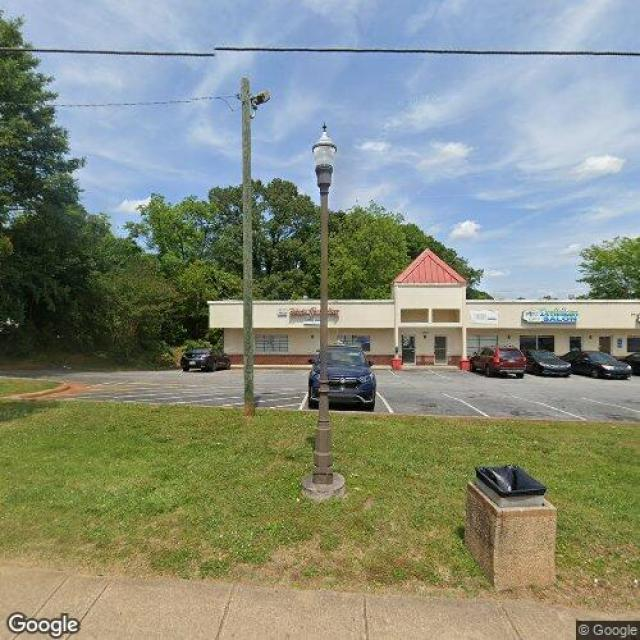trash_can: (467, 464, 558, 592)
